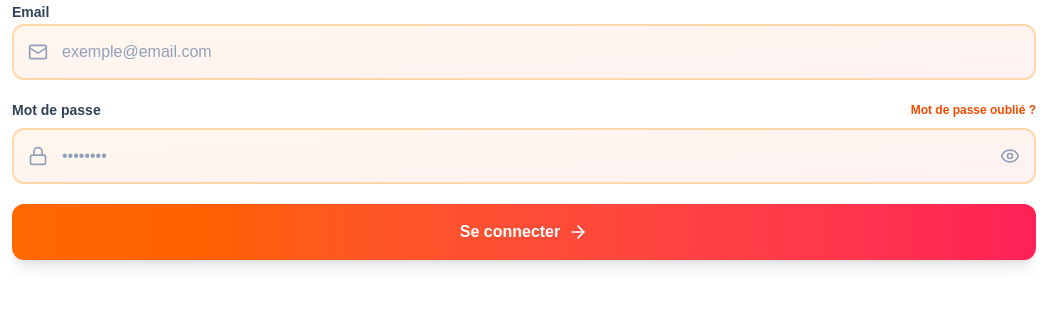
Scenario: LoginForm › shows error for invalid email format
Note: Use an email that passes HTML5 validation but fails our stricter regex
Type "test@domain" into the field with placeholder "exemple@email.com" at (524, 52), box [12,24,1036,80]
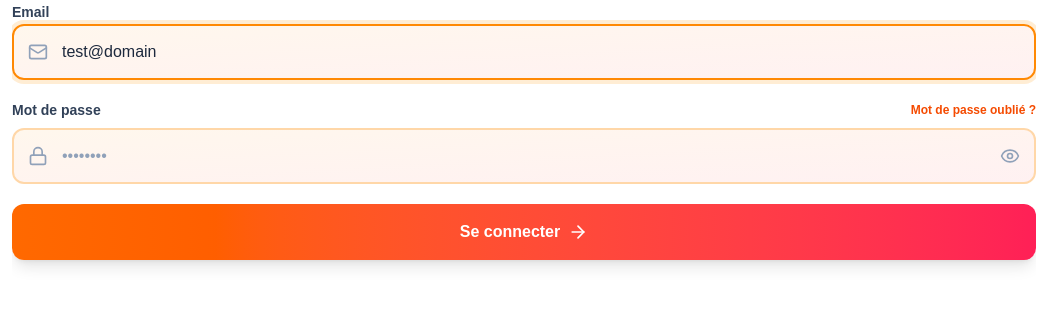
Type "password123" into the password field with placeholder "••••••••" at (524, 156), box [12,128,1036,184]
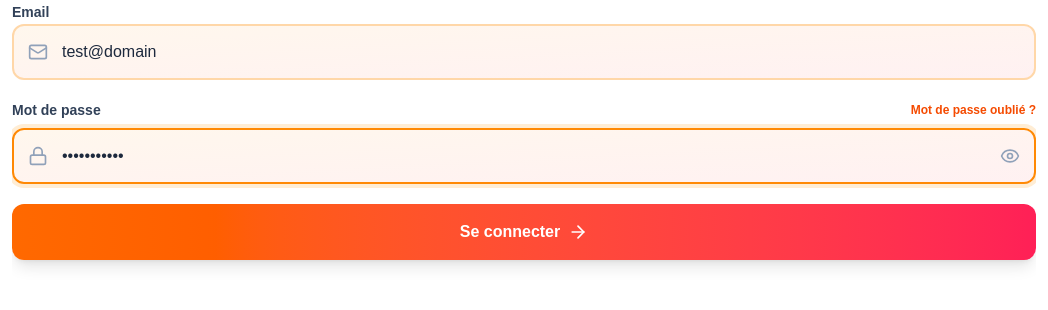
Click the button "Se connecter" at (524, 232), box [12,204,1036,260]
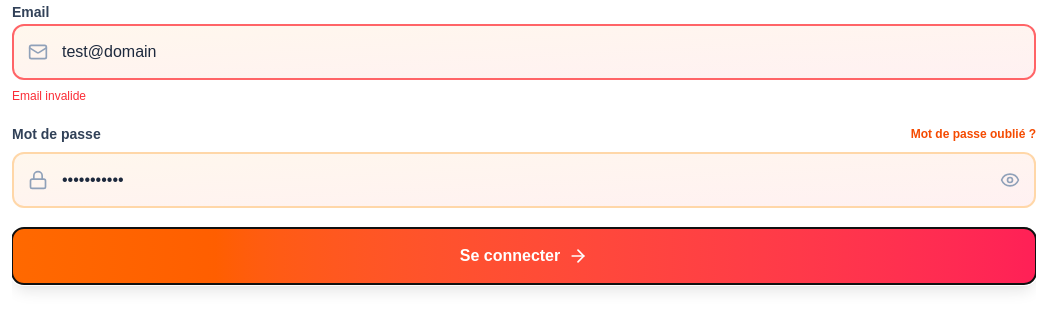
Expected: the text "Email invalide" is shown, [12,89,86,103]
